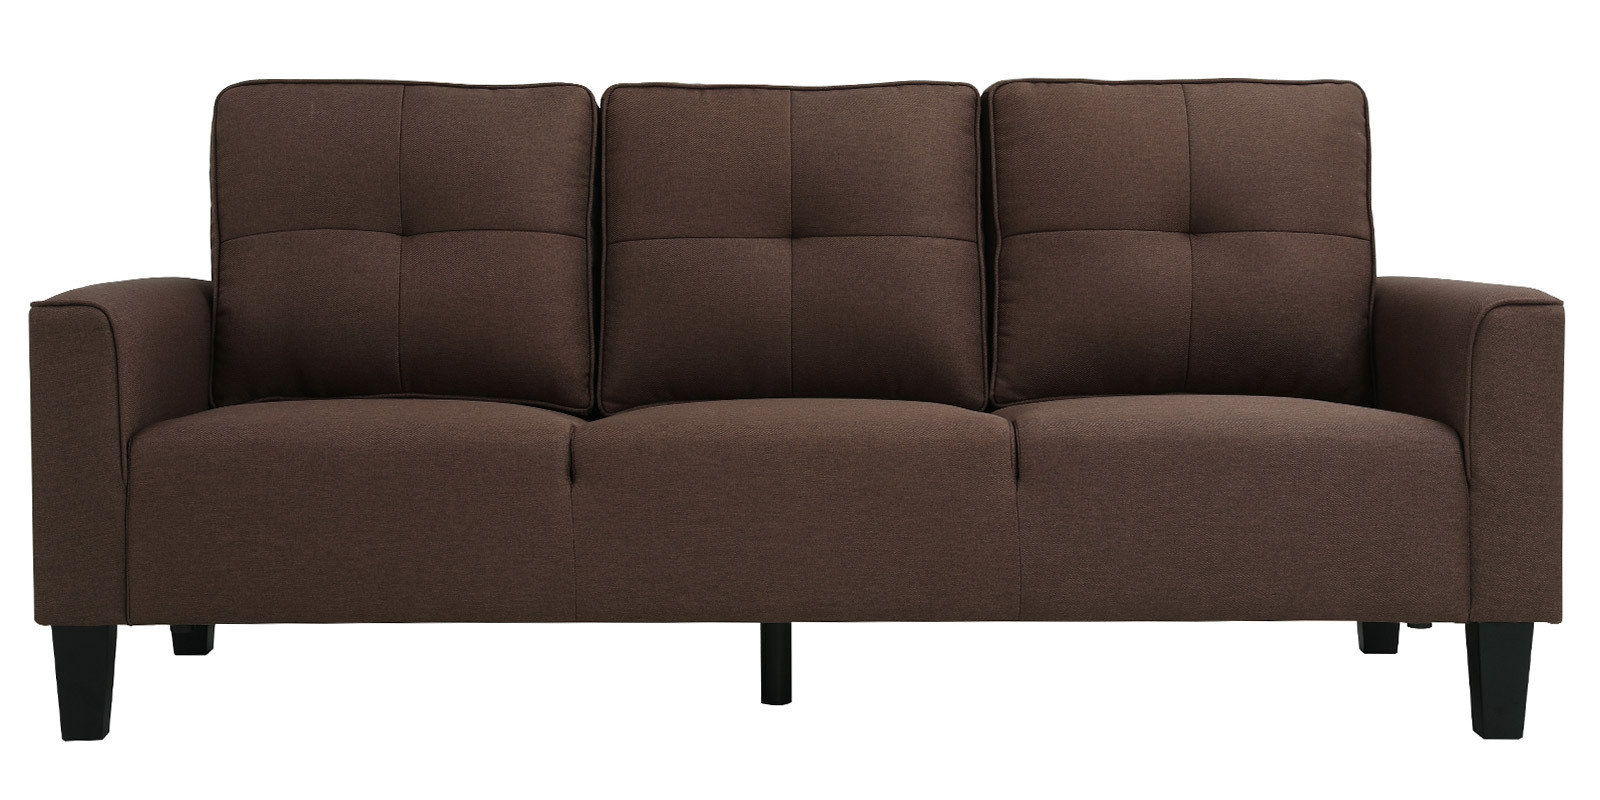Alice Three Seater Sofa in Brown Colour by Zofa: (28, 62, 1581, 771)
